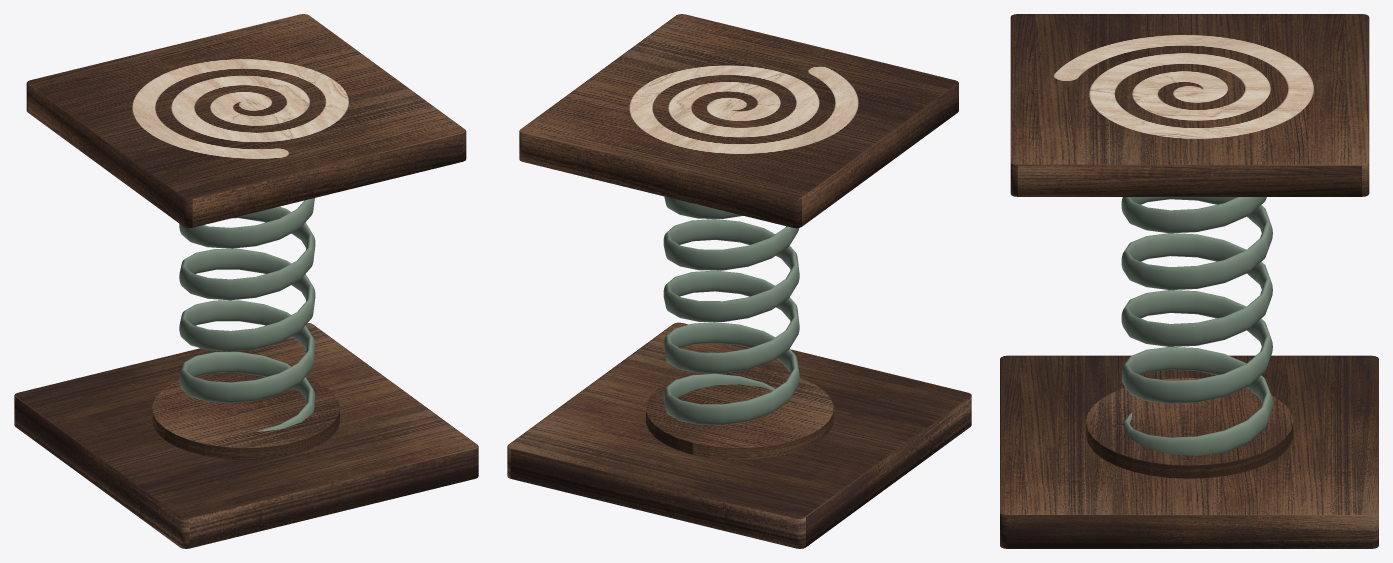
The model's file is spring good normals again.fbx.
3 views of the same model, side by side, from view 1: azimuth 30°, elevation 25°; view 2: azimuth 150°, elevation 25°; view 3: azimuth 270°, elevation 25° (orthographic). The views are drawn at different scales.
Visible parts, largest first — view 1: spring head, spring base, spring; view 2: spring head, spring base, spring; view 3: spring head, spring base, spring.
Part boxes in pixels (x1,y1,x2,y2): spring head: (26,14,466,227); spring base: (14,323,478,548); spring: (179,198,315,431); spring head: (519,14,958,228); spring base: (507,322,971,548); spring: (663,196,799,425); spring head: (1010,14,1369,196); spring base: (1000,355,1378,548); spring: (1121,197,1272,455).
Bounding box in the file's own units: 187 × 207 × 187.
